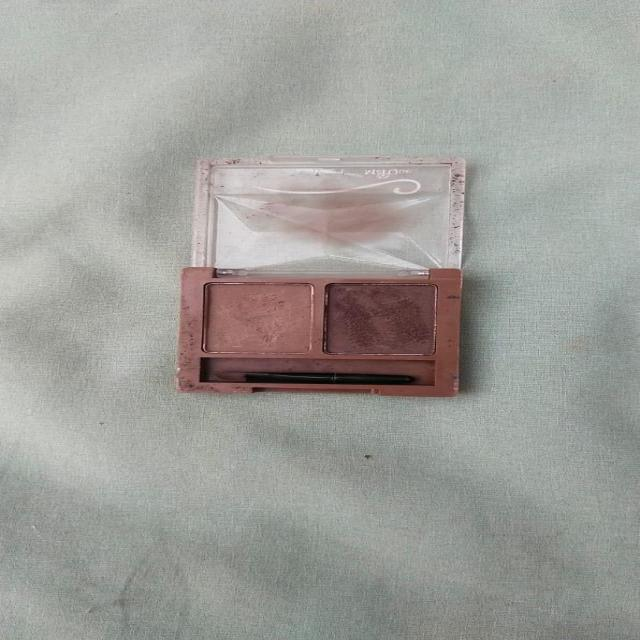bronzer: (195, 274, 328, 362), (309, 279, 447, 362)
